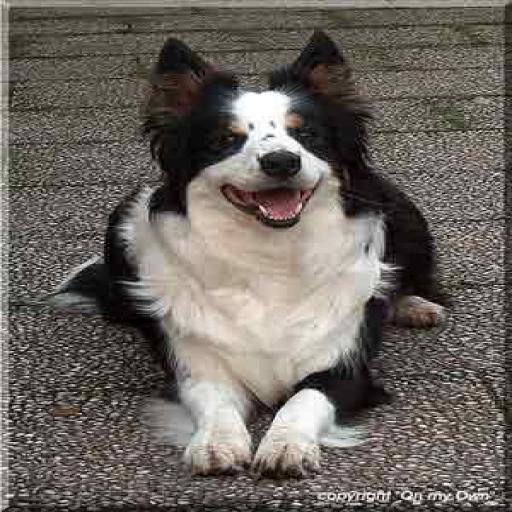dog_face: (128, 26, 399, 223)
